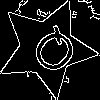Q: (21, 23, 83, 85)
